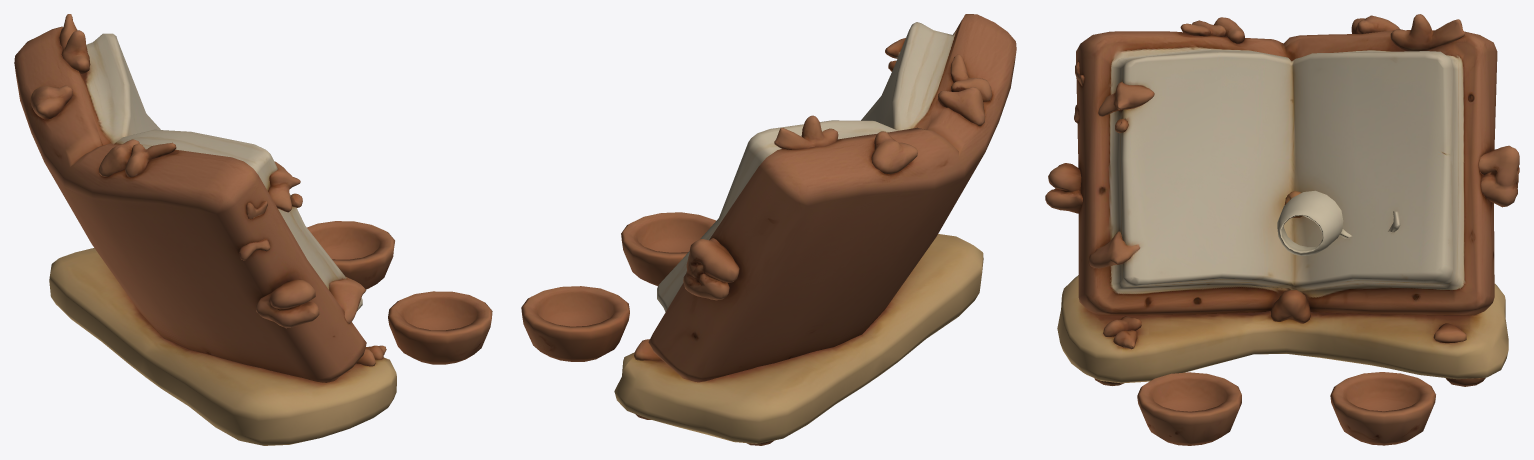
File: ending-forgetful.glb
3 renders of one model, left to right at view 1: azimuth 30°, elevation 25°; view 2: azimuth 150°, elevation 25°; view 3: azimuth 270°, elevation 25°, orthographic. The views are drawn at different scales.
Visible parts, largest first — view 1: tripo_node_721e2586-9d4f-46d1-917b-05c0876318e6; view 2: tripo_node_721e2586-9d4f-46d1-917b-05c0876318e6; view 3: tripo_node_721e2586-9d4f-46d1-917b-05c0876318e6.
Part boxes in pixels (x1,y1,x2,y2): tripo_node_721e2586-9d4f-46d1-917b-05c0876318e6: [14, 14, 492, 445]; tripo_node_721e2586-9d4f-46d1-917b-05c0876318e6: [521, 14, 1016, 445]; tripo_node_721e2586-9d4f-46d1-917b-05c0876318e6: [1045, 14, 1519, 445].
Size of the model in its own units: 0.9082 by 0.6973 by 0.998.
1 material, 1 textured.
